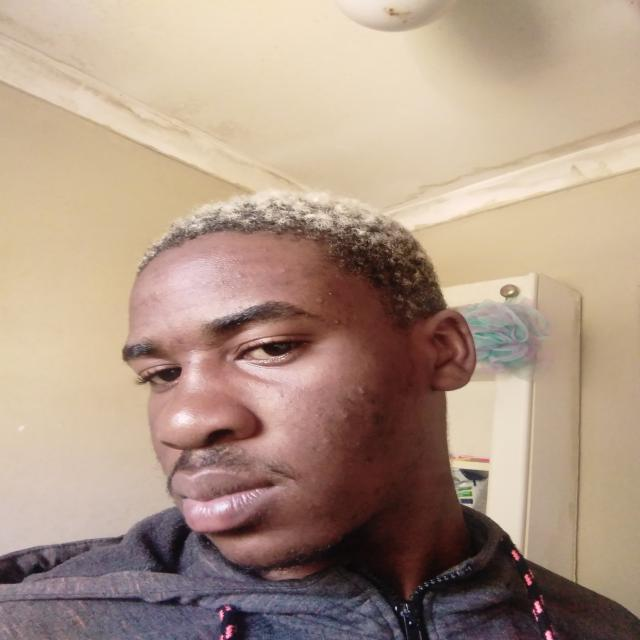acne: (356, 386, 370, 396), (340, 412, 352, 422), (330, 318, 344, 326), (309, 475, 321, 483), (234, 272, 246, 279), (279, 266, 289, 274), (353, 440, 363, 448), (316, 297, 324, 305), (152, 290, 158, 300), (193, 256, 203, 262), (346, 300, 354, 307), (259, 248, 268, 254), (156, 274, 164, 280)
pores: (274, 388, 332, 430)
wrinkle: (183, 347, 213, 354), (172, 304, 196, 312)
